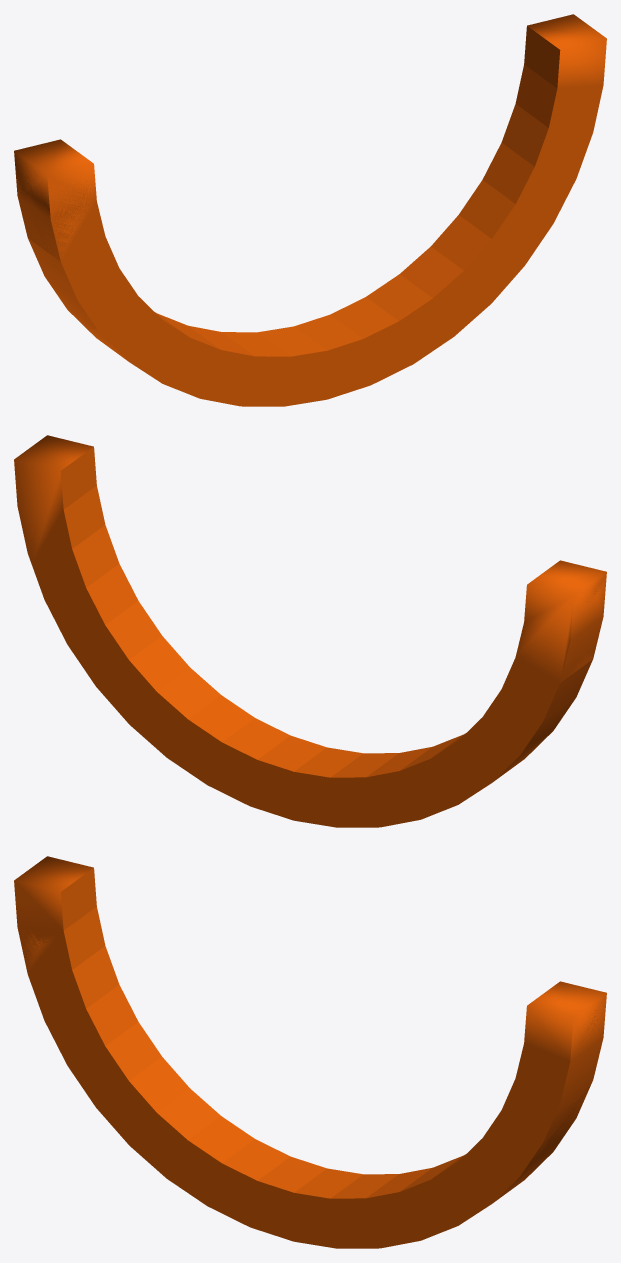
The model's file is HalfRing Fractured.fbx.
3 renders of one model, top to bottom at view 1: azimuth 30°, elevation 25°; view 2: azimuth 150°, elevation 25°; view 3: azimuth 330°, elevation 25°, orthographic.
Parts seen in each view (by area): view 1: pCylinder1, pCylinder1_cell.009, pCylinder1_cell.003, pCylinder1_cell.005, pCylinder1_cell.002, pCylinder1_cell.006, pCylinder1_cell.007, pCylinder1_cell.008, pCylinder1_cell.001, pCylinder1_cell.004; view 2: pCylinder1, pCylinder1_cell.002, pCylinder1_cell.003, pCylinder1_cell.005, pCylinder1_cell.009, pCylinder1_cell.007, pCylinder1_cell.004, pCylinder1_cell.008, pCylinder1_cell.006, pCylinder1_cell.001; view 3: pCylinder1, pCylinder1_cell.002, pCylinder1_cell.006, pCylinder1_cell.009, pCylinder1_cell.005, pCylinder1_cell.003, pCylinder1_cell.007, pCylinder1_cell.001, pCylinder1_cell.008, pCylinder1_cell.004.
Boxes of the visible parts, box(x1,y1,x2,y2) form: pCylinder1: box(14, 14, 606, 406); pCylinder1_cell.009: box(432, 169, 558, 310); pCylinder1_cell.003: box(251, 299, 426, 404); pCylinder1_cell.005: box(14, 139, 104, 261); pCylinder1_cell.002: box(515, 20, 603, 185); pCylinder1_cell.006: box(160, 319, 292, 406); pCylinder1_cell.007: box(28, 238, 104, 330); pCylinder1_cell.008: box(370, 288, 482, 354); pCylinder1_cell.001: box(88, 323, 165, 381); pCylinder1_cell.004: box(479, 113, 572, 213); pCylinder1: box(14, 435, 606, 827); pCylinder1_cell.002: box(14, 435, 117, 571); pCylinder1_cell.003: box(212, 709, 360, 827); pCylinder1_cell.005: box(515, 560, 606, 682); pCylinder1_cell.009: box(88, 574, 221, 697); pCylinder1_cell.007: box(464, 657, 592, 773); pCylinder1_cell.004: box(32, 558, 108, 673); pCylinder1_cell.008: box(106, 687, 238, 787); pCylinder1_cell.006: box(337, 740, 449, 820); pCylinder1_cell.001: box(422, 731, 552, 801); pCylinder1: box(14, 856, 606, 1248); pCylinder1_cell.002: box(500, 982, 606, 1147); pCylinder1_cell.006: box(129, 1101, 283, 1227); pCylinder1_cell.009: box(399, 1114, 532, 1228); pCylinder1_cell.005: box(14, 862, 104, 973); pCylinder1_cell.003: box(252, 1153, 388, 1244); pCylinder1_cell.007: box(30, 975, 71, 1057); pCylinder1_cell.001: box(64, 1049, 182, 1141); pCylinder1_cell.008: box(380, 1178, 449, 1242); pCylinder1_cell.004: box(510, 1092, 587, 1171).
Size of the model in its own units: 417 by 208 by 42.91.
